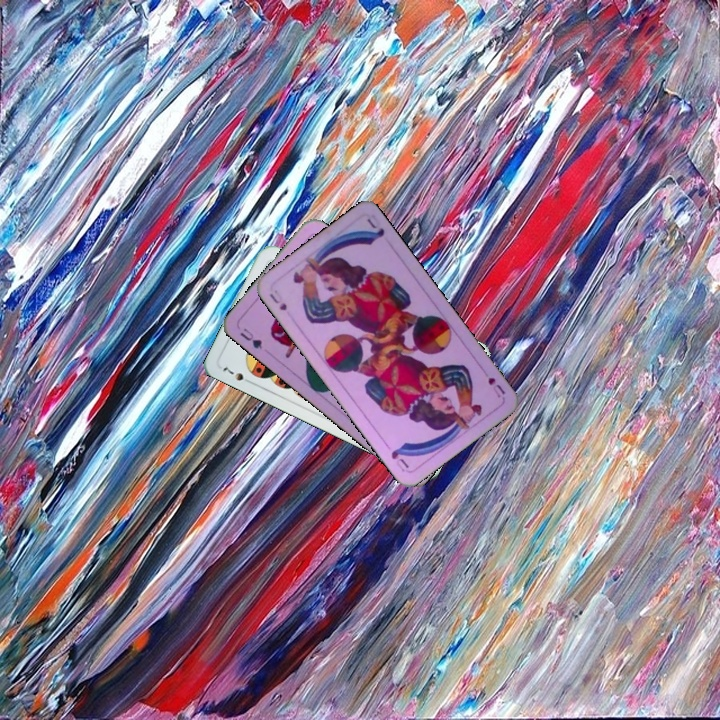GU: (236, 324, 265, 352)
S7: (219, 362, 255, 387)
SU: (265, 285, 290, 313), (484, 373, 508, 400)
